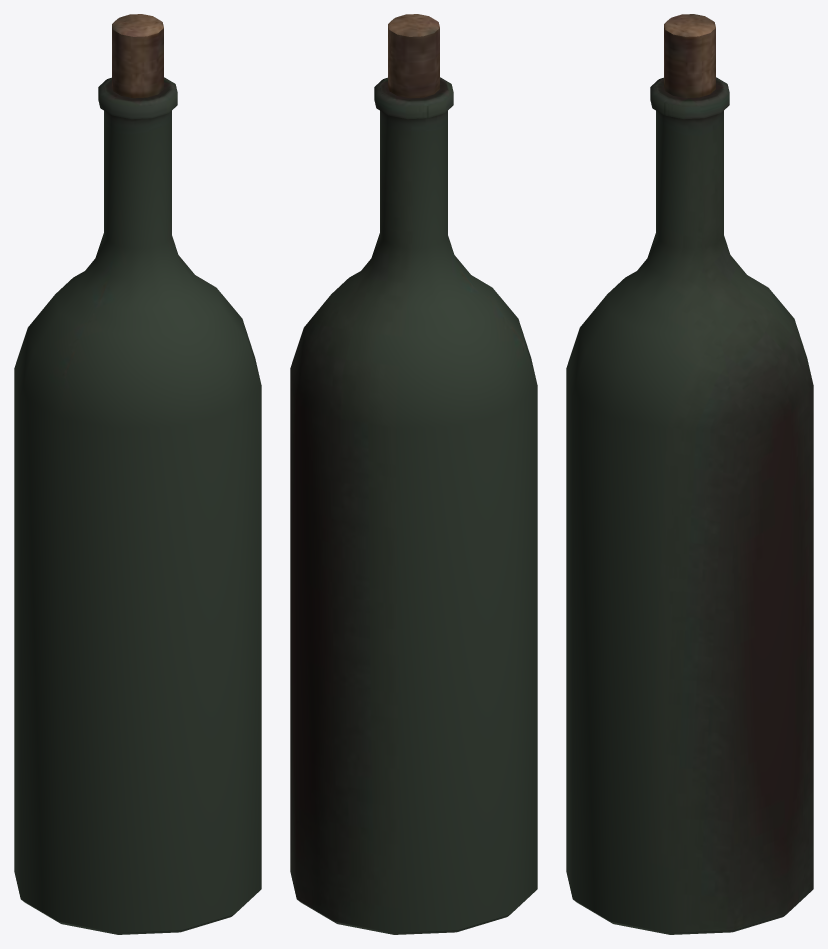
The model's file is bottle_glass_1.glb.
3 renders of one model, left to right at view 1: azimuth 30°, elevation 25°; view 2: azimuth 150°, elevation 25°; view 3: azimuth 270°, elevation 25°, orthographic.
Parts seen in each view (by area): view 1: Whiskey_Material.001_0; view 2: Whiskey_Material.001_0; view 3: Whiskey_Material.001_0.
Part boxes in pixels (<box>): Whiskey_Material.001_0: <box>14,14,261,934</box>; Whiskey_Material.001_0: <box>290,14,537,934</box>; Whiskey_Material.001_0: <box>566,14,813,934</box>.
Size of the model in its own units: 0.0781 by 0.3 by 0.0781.
1 material, 1 textured.
